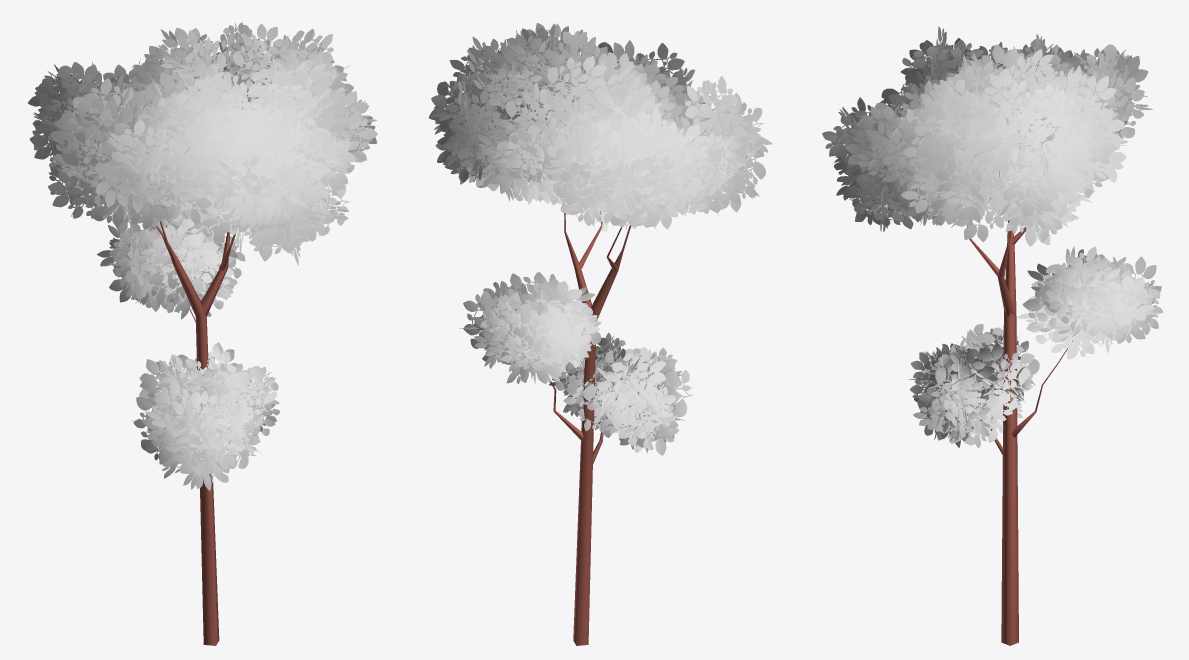
The model's file is TallTree2.fbx.
3 renders of one model, left to right at view 1: azimuth 30°, elevation 25°; view 2: azimuth 150°, elevation 25°; view 3: azimuth 270°, elevation 25°, orthographic.
Visible parts, largest first — view 1: LeafInd.005, LeafInd.010, LeafInd.008, LeafInd.006, LeafInd.007, LeafInd.009, TrunkRainForest.001; view 2: LeafInd.005, LeafInd.009, LeafInd.007, LeafInd.008, LeafInd.006, TrunkRainForest.001, LeafInd.010; view 3: LeafInd.005, LeafInd.007, LeafInd.006, LeafInd.010, TrunkRainForest.001, LeafInd.009, LeafInd.008.
Boxes of the visible parts, x1=… form: LeafInd.005: x1=121, y1=22, x2=377, y2=173; LeafInd.010: x1=173, y1=98, x2=355, y2=265; LeafInd.008: x1=47, y1=96, x2=233, y2=234; LeafInd.006: x1=132, y1=342, x2=279, y2=491; LeafInd.007: x1=97, y1=212, x2=245, y2=319; LeafInd.009: x1=28, y1=58, x2=177, y2=165; TrunkRainForest.001: x1=156, y1=151, x2=236, y2=645; LeafInd.005: x1=428, y1=23, x2=671, y2=205; LeafInd.009: x1=536, y1=107, x2=702, y2=232; LeafInd.007: x1=459, y1=272, x2=601, y2=384; LeafInd.008: x1=594, y1=76, x2=772, y2=215; LeafInd.006: x1=549, y1=332, x2=692, y2=455; TrunkRainForest.001: x1=519, y1=111, x2=706, y2=645; LeafInd.010: x1=527, y1=40, x2=705, y2=126; LeafInd.005: x1=892, y1=44, x2=1127, y2=246; LeafInd.007: x1=1017, y1=246, x2=1162, y2=359; LeafInd.006: x1=909, y1=324, x2=1039, y2=448; LeafInd.010: x1=822, y1=79, x2=986, y2=231; TrunkRainForest.001: x1=966, y1=143, x2=1072, y2=645; LeafInd.009: x1=1001, y1=34, x2=1153, y2=149; LeafInd.008: x1=883, y1=26, x2=1076, y2=139.
Bounding box in the file's own units: 888 × 1576 × 867.
